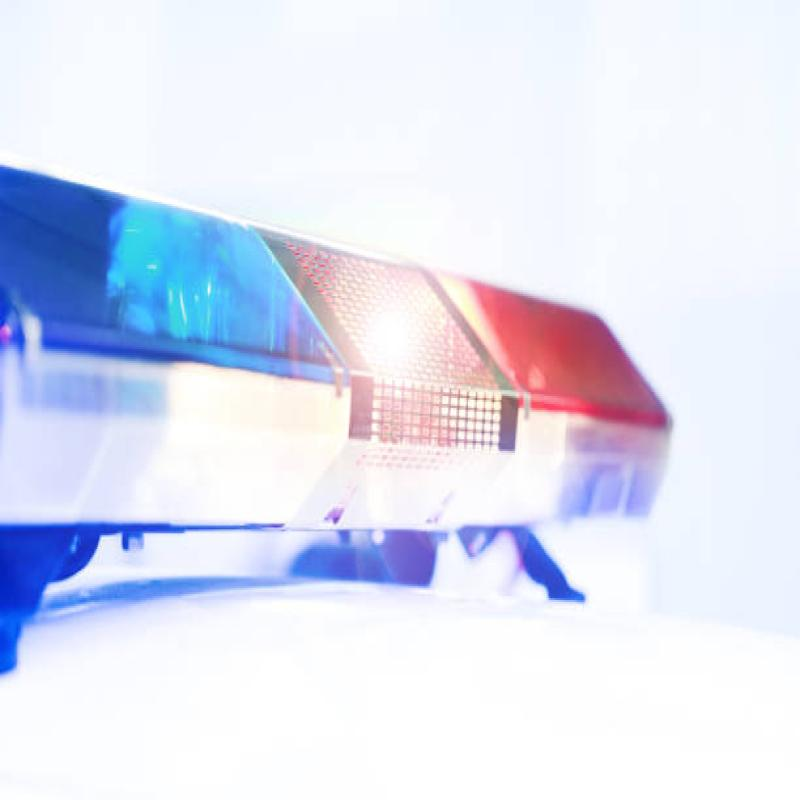AmbulanceSiren: (5, 153, 712, 556)
